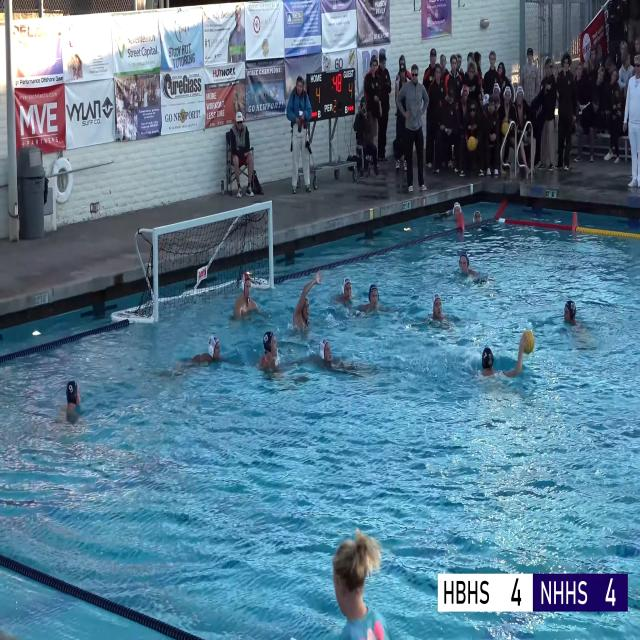ball: (522, 329, 534, 354), (468, 136, 477, 151), (502, 122, 509, 136)
